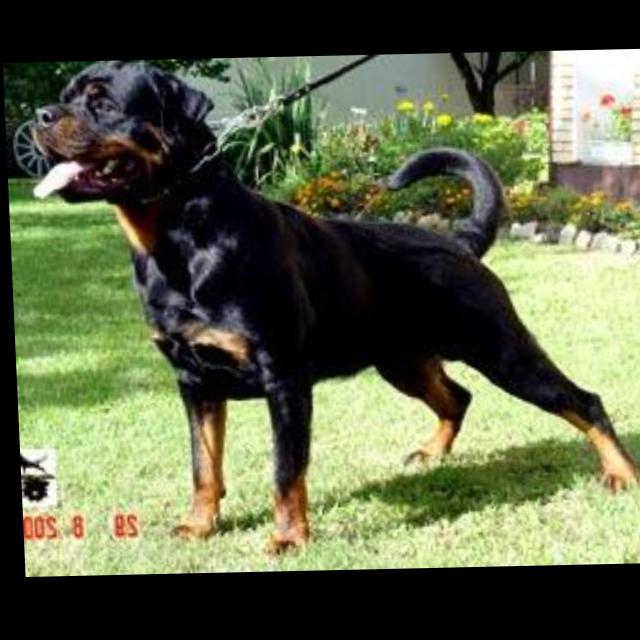rottweiler: (26, 53, 640, 562)
